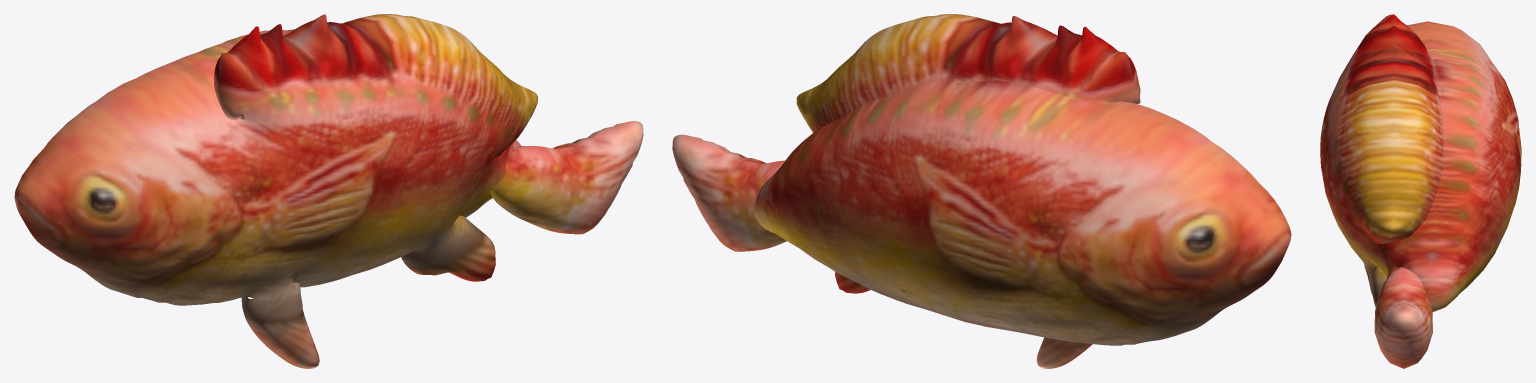
File: A黃斑齒黃鮨.glb
3 views of the same model, side by side, from view 1: azimuth 30°, elevation 25°; view 2: azimuth 150°, elevation 25°; view 3: azimuth 270°, elevation 25° (orthographic). The views are drawn at different scales.
Size of the model in its own units: 2.52 by 1.38 by 0.9203.
Materials: 1 (1 with a texture image).
